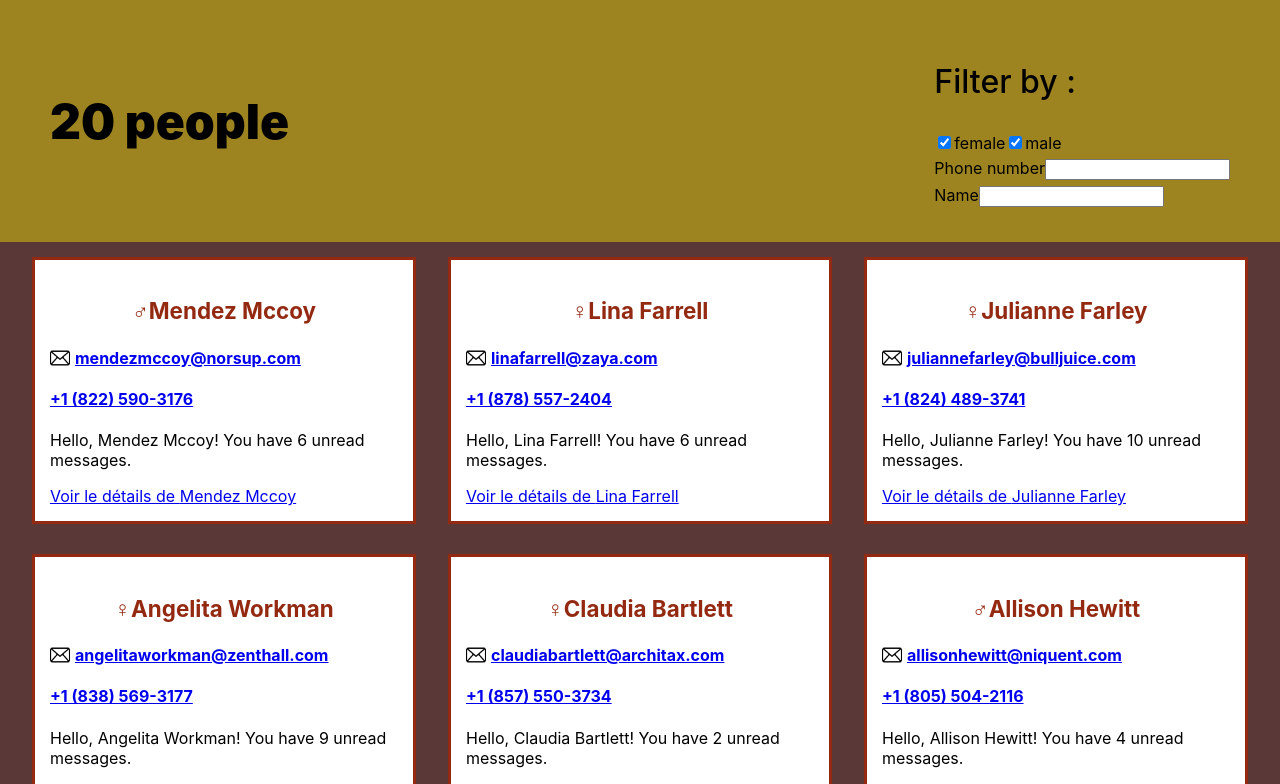
Scenario: filter › should display FAIL when the filters are bad
The width and height of the screenshot is (1280, 784).
Type "bad" into the field labelled "Name" at (1071, 196), box x1=979 y1=186 x2=1164 y2=207
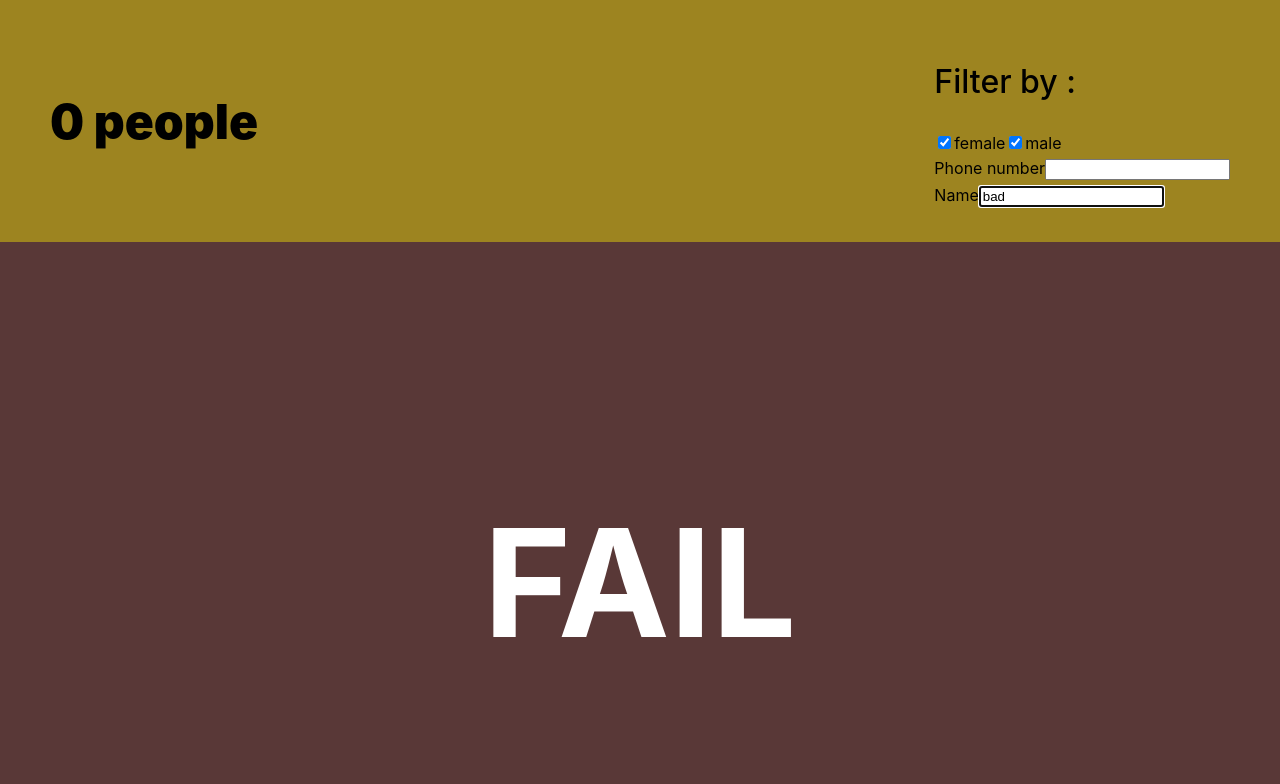
expect the heading "Julianne Farley" is gone: met
expect the heading "Lina Farrell" is gone: met
expect the heading "FAIL" is shown: met, box x1=484 y1=492 x2=796 y2=673
